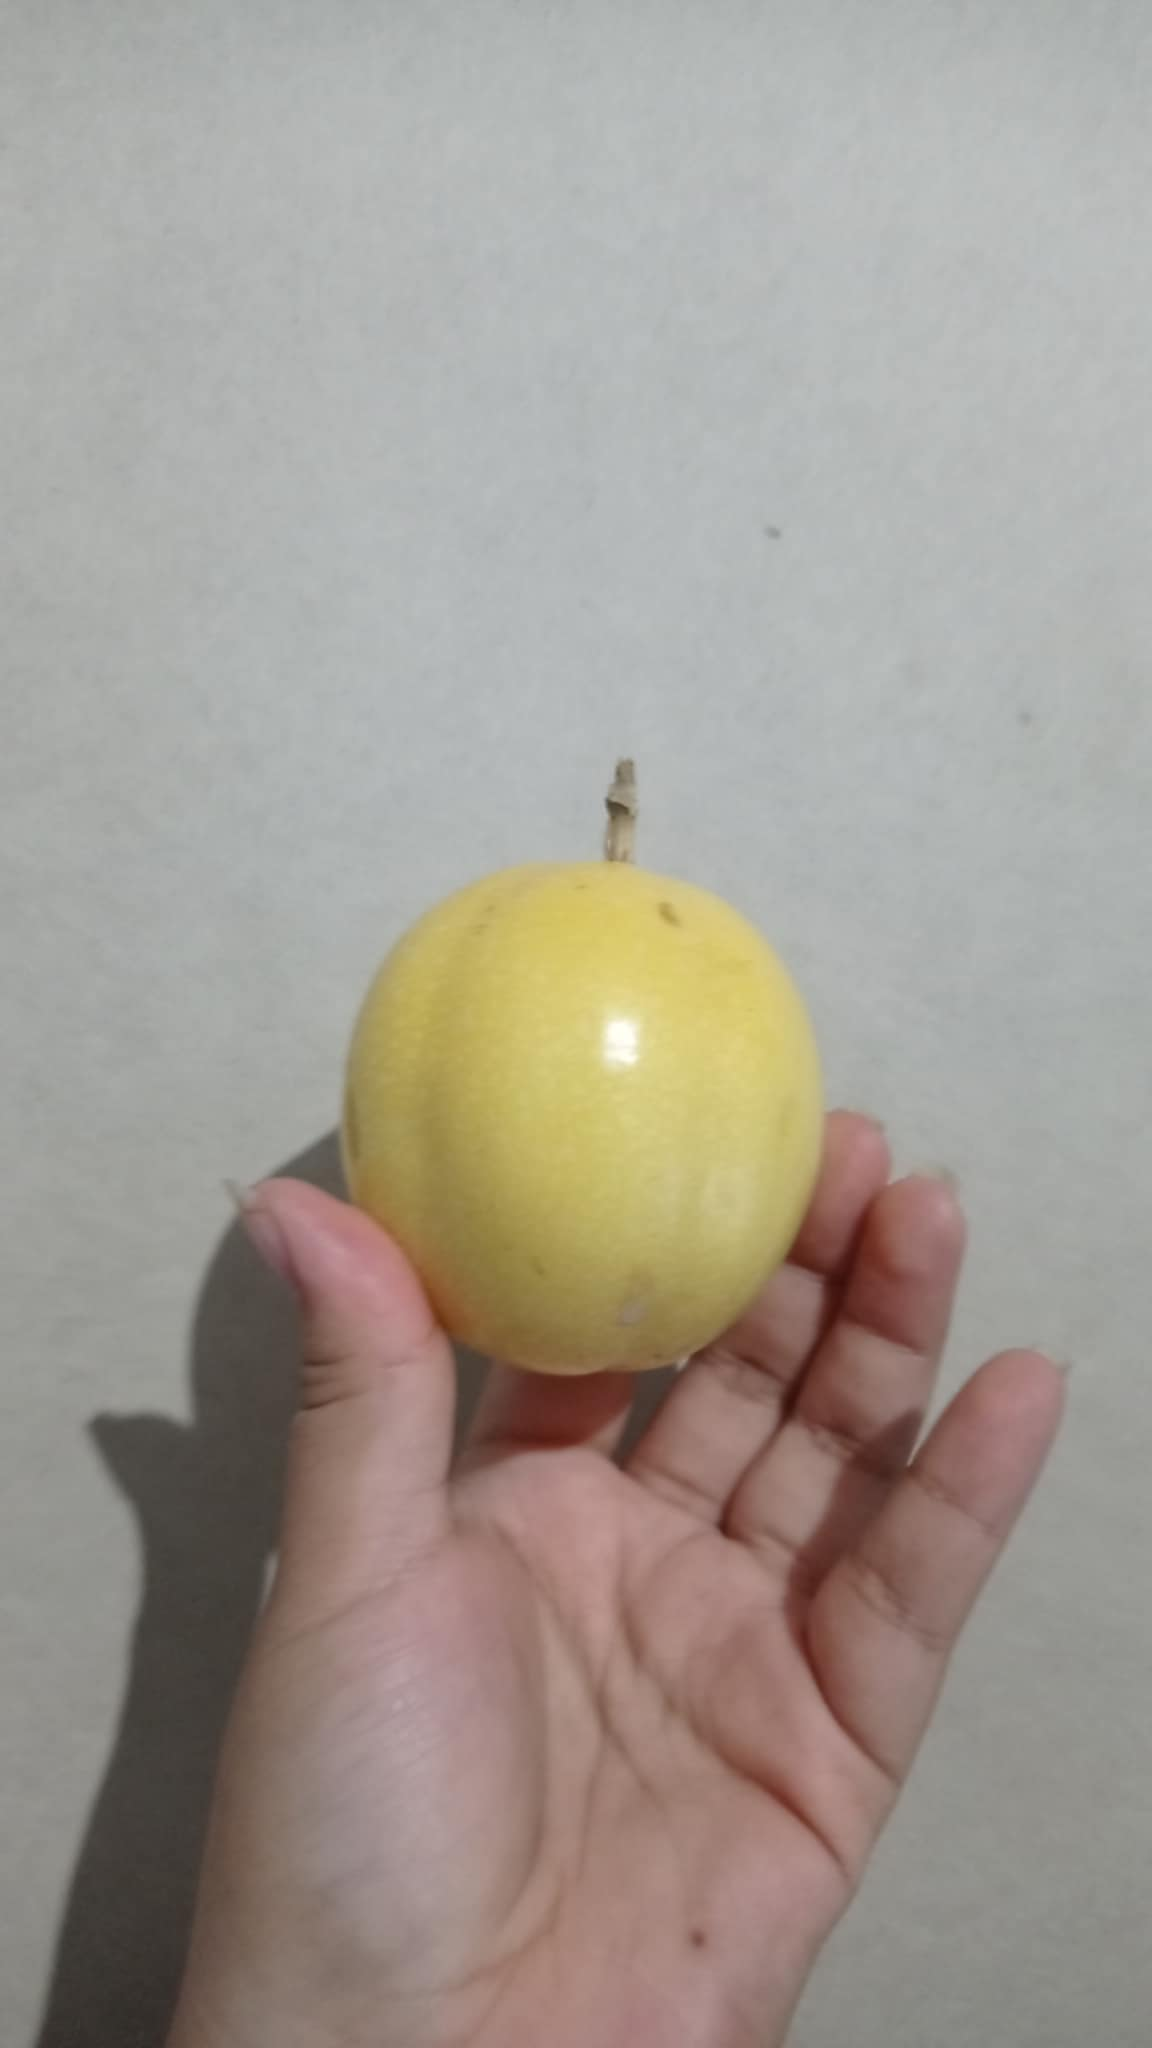maracuya: (314, 737, 857, 1405)
